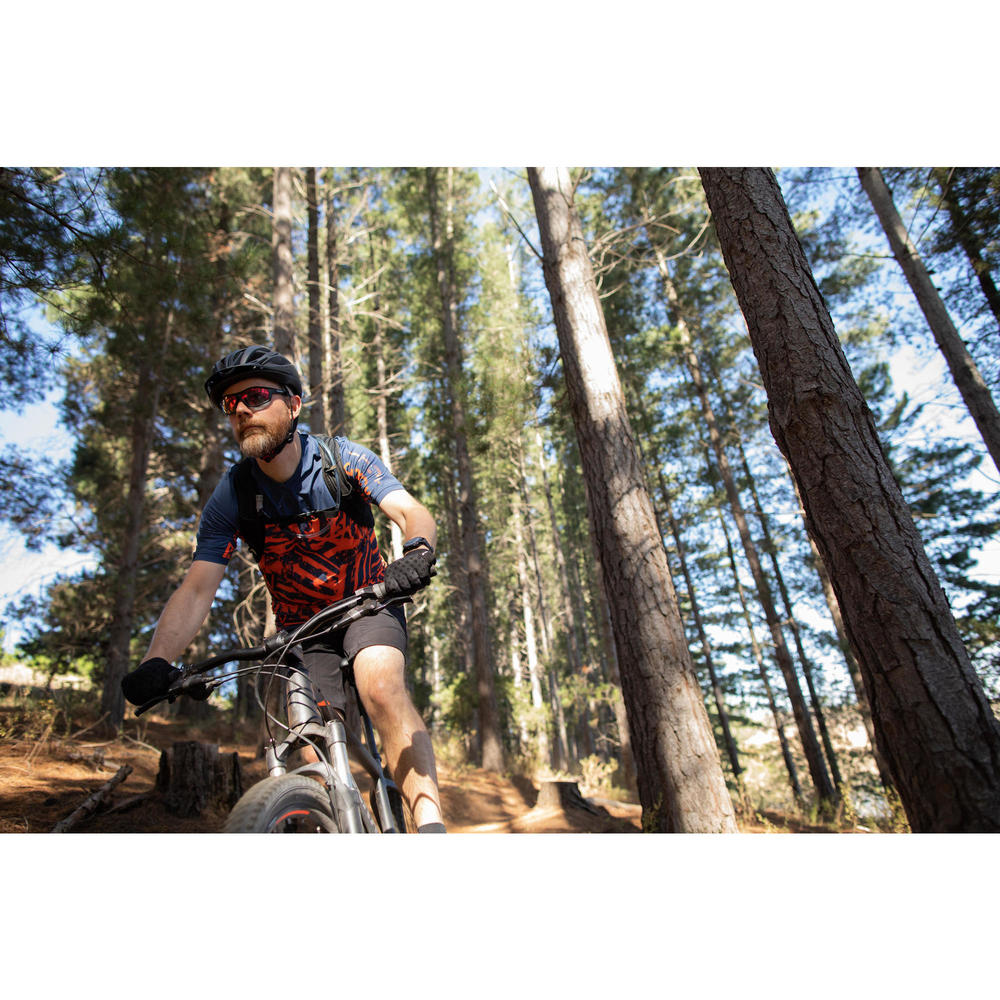MountainBike: (86, 547, 442, 866)
